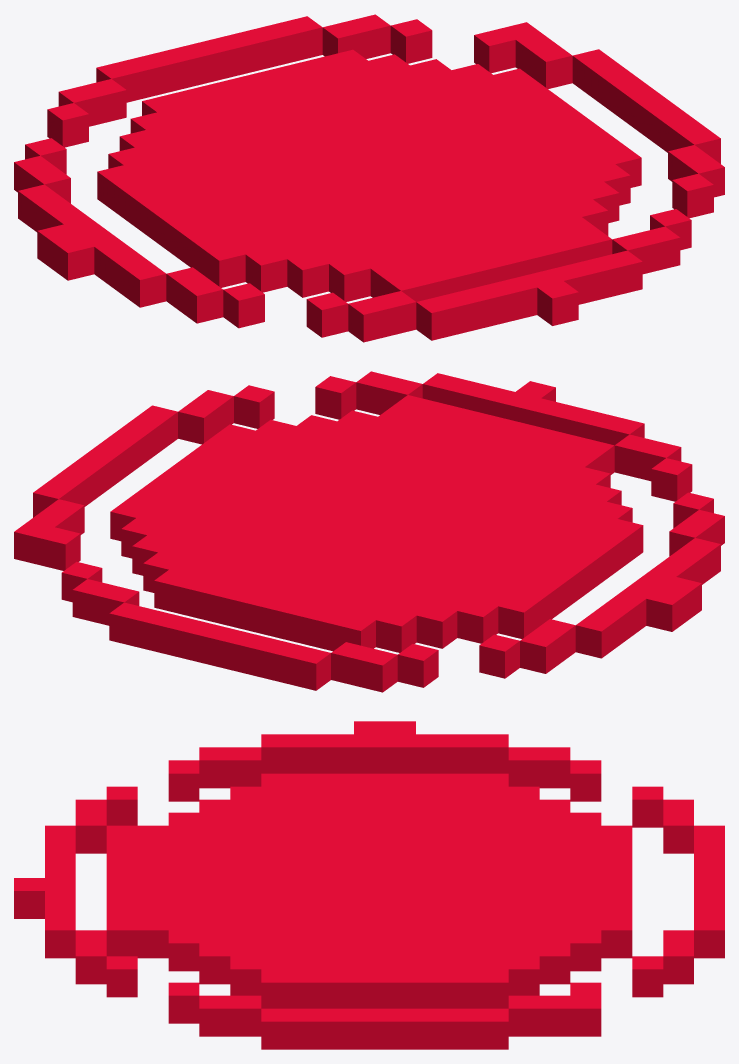
Rendered from wheel-1.obj.
The picture shows the model from 3 angles, top to bottom: view 1: azimuth 30°, elevation 25°; view 2: azimuth 150°, elevation 25°; view 3: azimuth 270°, elevation 25°; orthographic projection. The views are drawn at different scales.
Size of the model in its own units: 2.3 by 0.1 by 2.3.
1 material, 1 textured.
